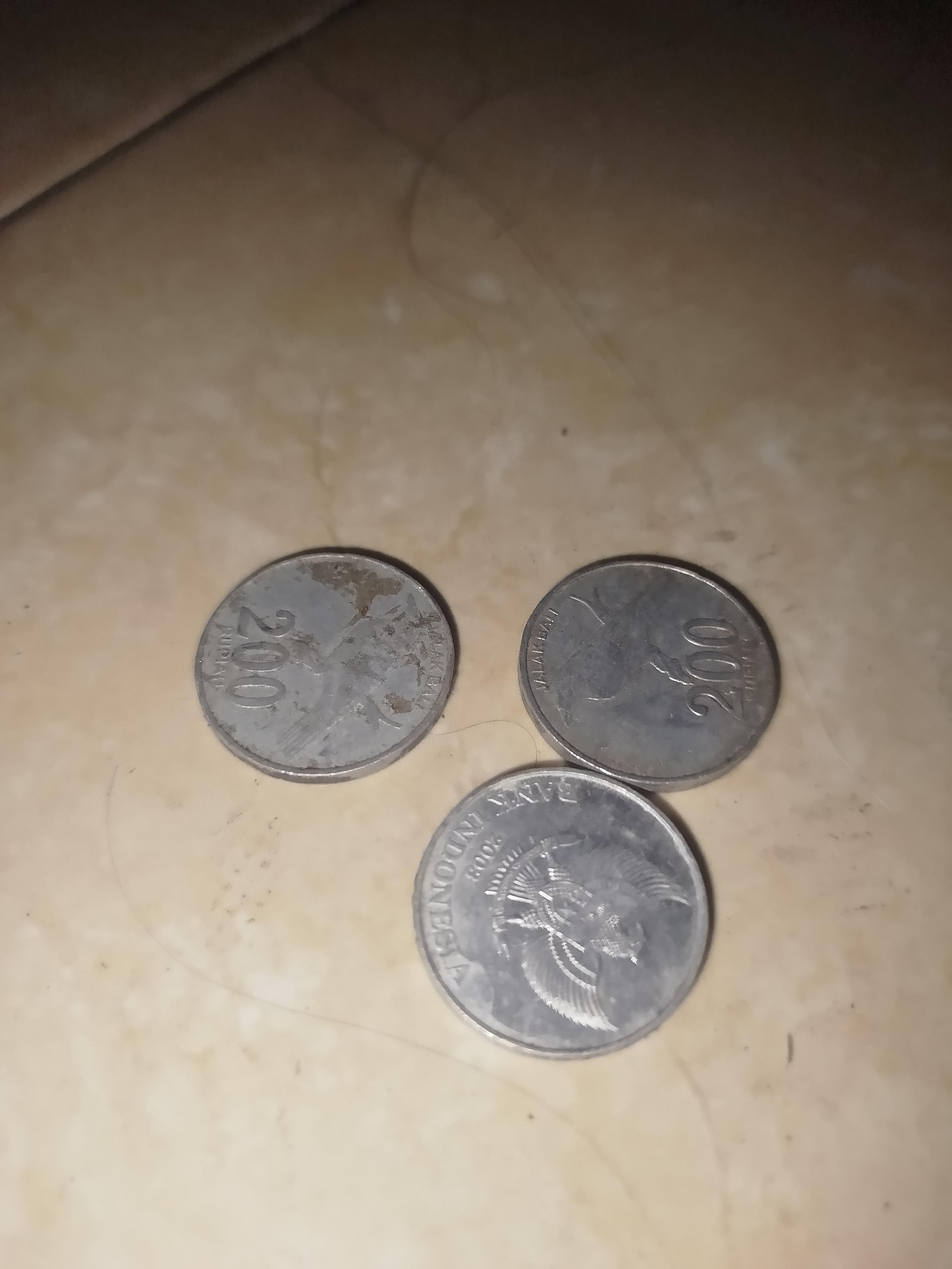coin_200_e2003: (416, 765, 717, 1060), (517, 554, 782, 797), (195, 551, 459, 785)
